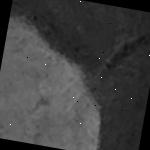colony: (0, 5, 125, 150)
